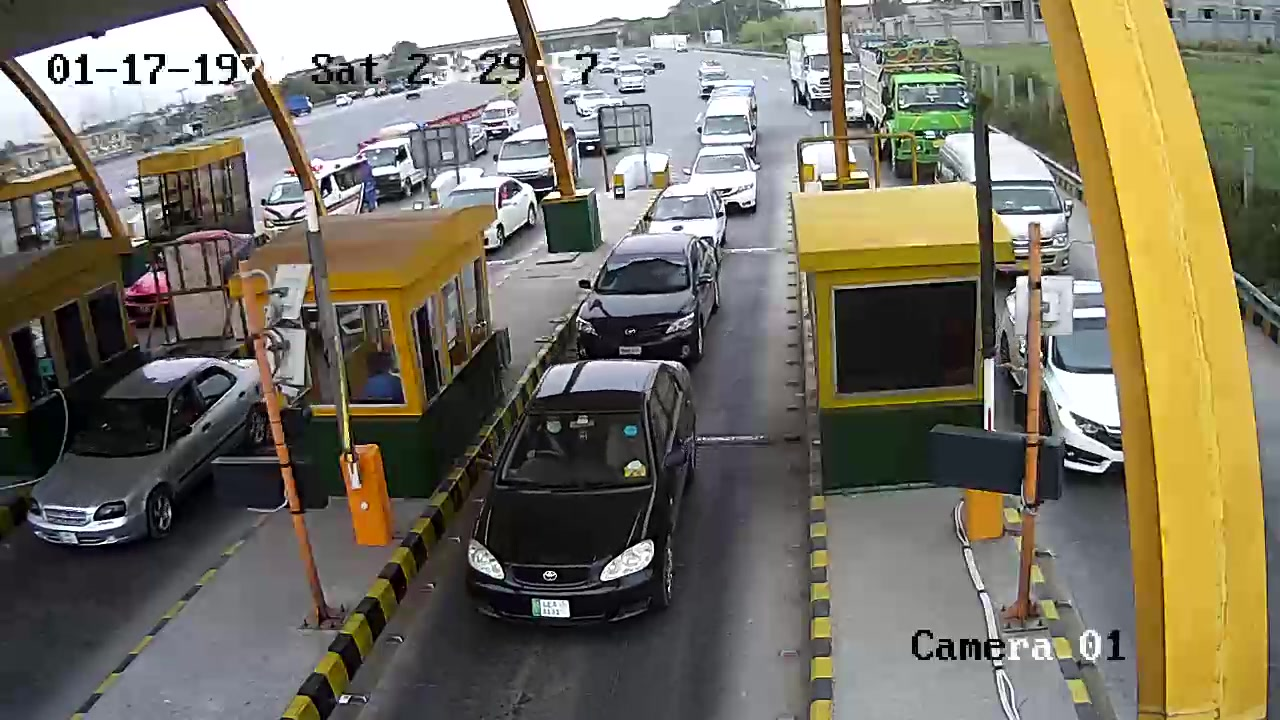F1: (457, 344, 727, 635), (565, 237, 743, 355)
